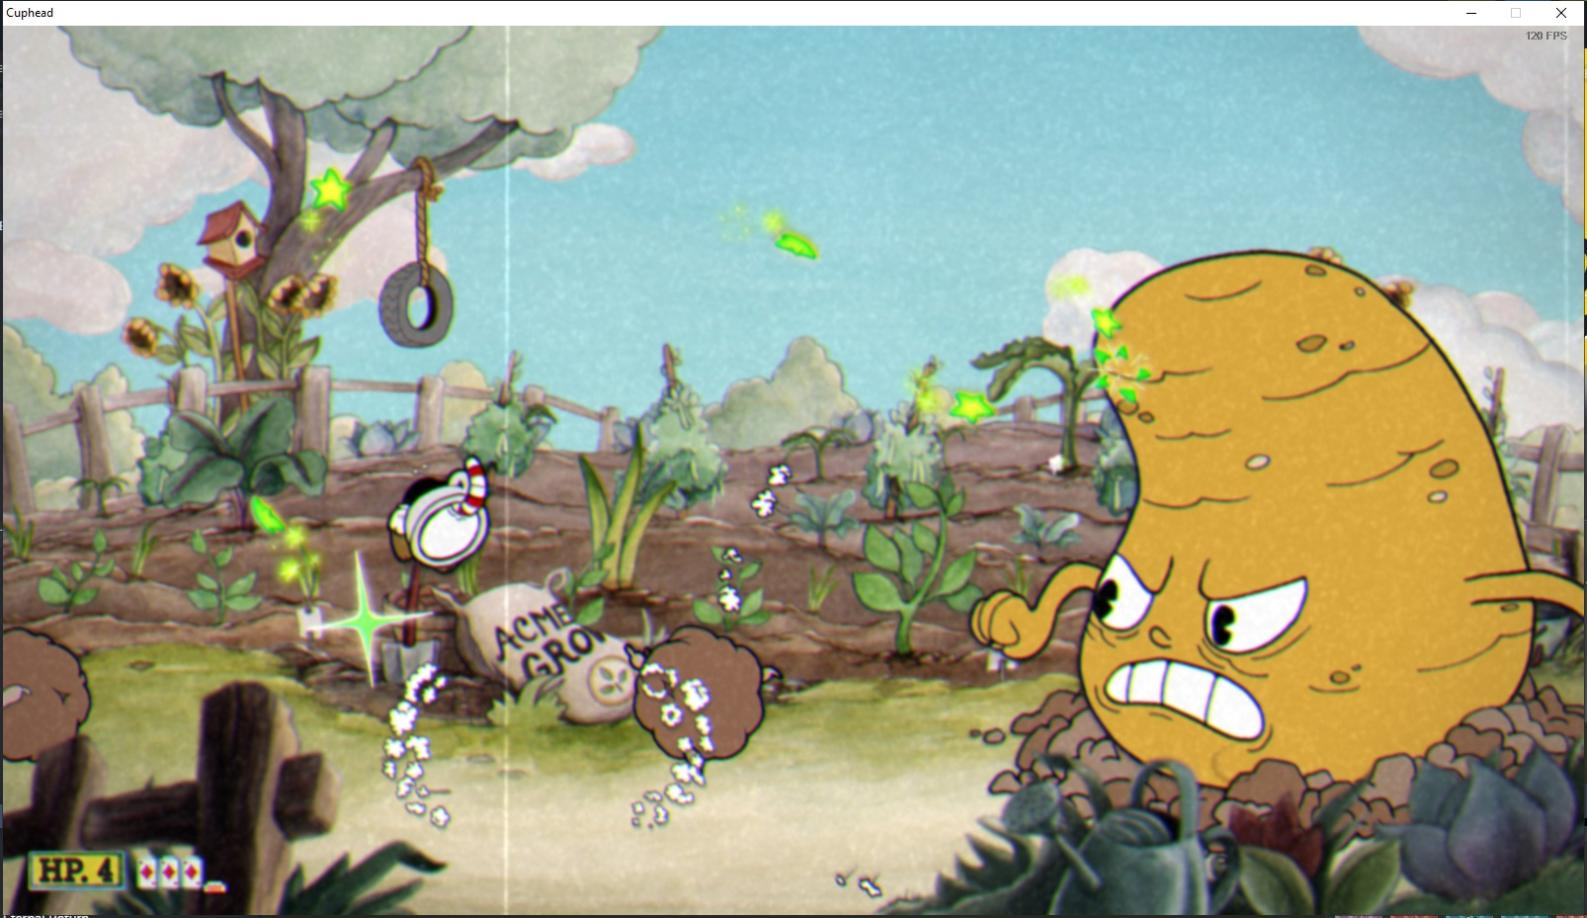dirt: (624, 618, 778, 776), (2, 627, 101, 772)
hp4: (90, 848, 127, 894)
player: (378, 444, 503, 582)
potato_boss: (1050, 244, 1549, 798)
